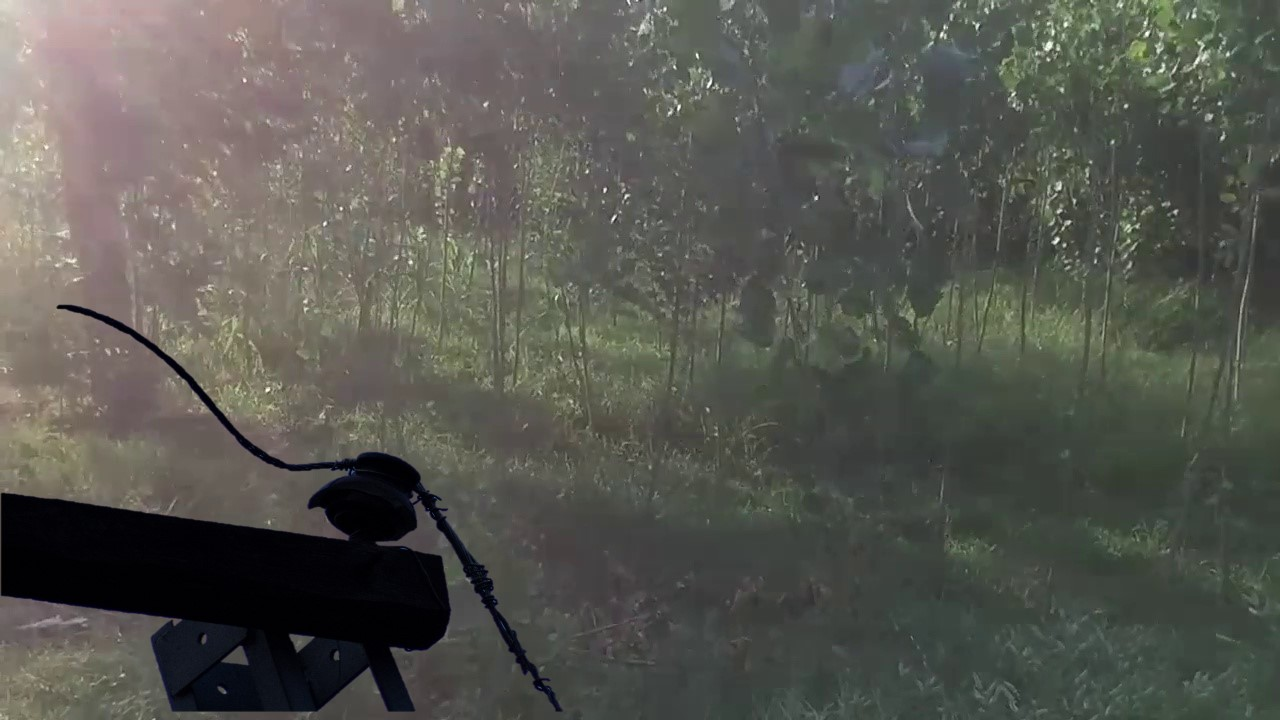defect_pin: (307, 447, 426, 552)
